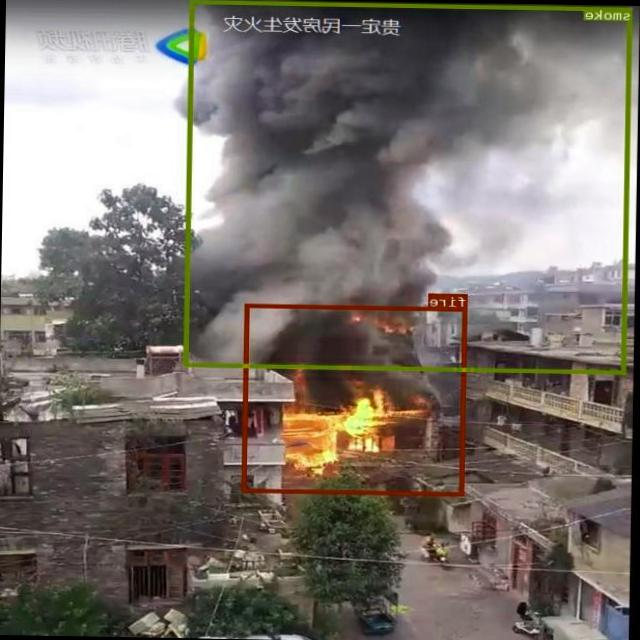fire: (242, 303, 468, 495)
smoke: (184, 0, 633, 373)
